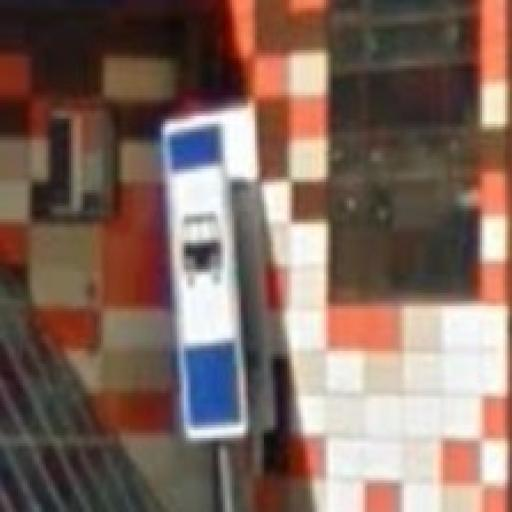traffic_sign: (160, 117, 252, 445)
